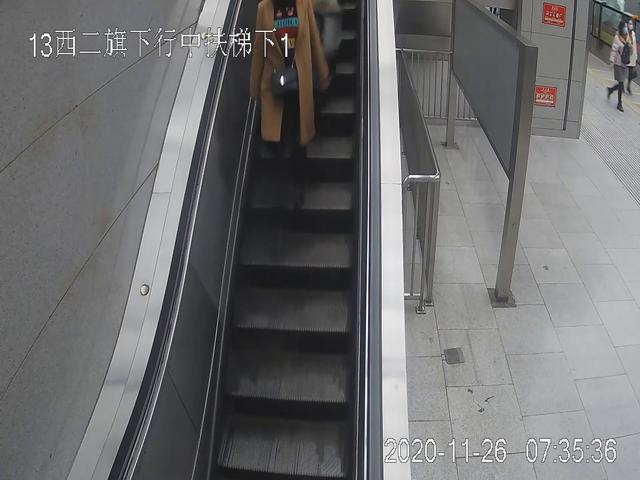person: (247, 1, 332, 214), (609, 18, 635, 114)
